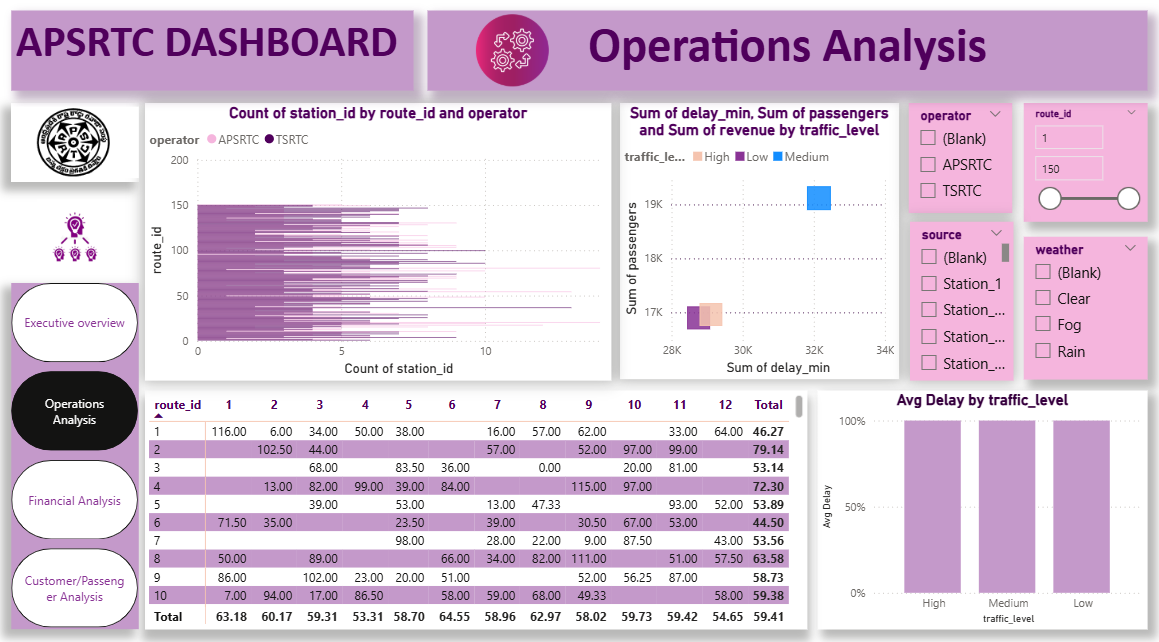

This screenshot's page, from the dashboard's own definition file:
{"tool":"powerbi","page":{"name":"Operations Analysis","canvas":[1280,720],"ordinal":1},"visuals":[{"type":"clusteredBarChart","fields":{"Category":["fact_trips.route_id"],"Y":["CountNonNull(fact_trips.station_id)"],"Series":["dim_buses.operator"]},"box":[164.6,120.7,511.8,304.6],"z":0,"group":"g4"},{"type":"hundredPercentStackedColumnChart","fields":{"Category":["fact_trips.traffic_level"],"Y":["fact_trips.Avg Delay"]},"box":[902.9,436.4,362.3,262.1],"z":0,"group":"g13"},{"type":"textbox","box":[17.8,19.2,441.9,87.8],"z":1000,"group":"g3"},{"type":"textbox","box":[474.7,19.2,790.4,87.8],"z":2000,"group":"g2"},{"type":"scatterChart","fields":{"X":["Sum(fact_trips.delay_min)"],"Y":["Sum(fact_trips.passengers)"],"Size":["Sum(fact_trips.revenue)"],"Series":["fact_trips.traffic_level"]},"box":[686,120.7,306,303.3],"z":2000,"group":"g8"},{"type":"pageNavigator","box":[17.8,318.3,140,380.1],"z":3000,"group":"g6"},{"type":"pivotTable","fields":{"Rows":["dim_routes.route_id"],"Columns":["dim_dates.month"],"Values":["fact_trips.Avg Delay"]},"box":[164.6,436.4,727.3,262.1],"z":3000,"group":"g13"},{"type":"image","box":[17.8,120.7,140,86.4],"z":4000,"group":"g5"},{"type":"slicer","fields":{"Values":["fact_trips.weather"]},"box":[1129.3,267.6,135.8,156.4],"z":4000,"group":"g12"},{"type":"image","box":[496.7,23.3,142.7,79.6],"z":5000,"group":"g2"},{"type":"image","box":[17.8,226.4,140,82.3],"z":6000,"group":"g5"},{"type":"group","id":"g1","title":"Group 1","box":[164.6,120.7,1100.5,577.7],"z":7000,"group":"g7"},{"type":"slicer","fields":{"Values":["dim_buses.operator"]},"box":[1003,120.7,113.9,120.8],"z":7000,"group":"g9"},{"type":"group","id":"g2","title":"Group 8","box":[474.7,19.2,790.4,87.8],"z":7001,"group":"g3"},{"type":"group","id":"g3","title":"Group 9","box":[17.8,19.2,1247.3,87.8],"z":7002,"group":"g4"},{"type":"group","id":"g4","title":"Group 10","box":[17.8,19.2,1247.3,406.2],"z":7003,"group":"g7"},{"type":"group","id":"g5","title":"Group 11","box":[17.8,120.7,140,188],"z":7004,"group":"g6"},{"type":"group","id":"g6","title":"Group 12","box":[17.8,120.7,140,577.7],"z":7005,"group":"g7"},{"type":"group","id":"g7","title":"Group 13","box":[17.8,19.2,1247.3,679.2],"z":7006},{"type":"slicer","fields":{"Values":["dim_routes.source"]},"box":[1004.4,251.1,113.9,174.3],"z":8000,"group":"g11"},{"type":"slicer","fields":{"Values":["dim_routes.route_id"]},"box":[1129.3,120.7,135.8,130.4],"z":9000,"group":"g10"},{"type":"group","id":"g8","title":"Group 7","box":[164.6,120.7,1100.5,577.7],"z":11004,"group":"g1"},{"type":"group","id":"g9","title":"Group 6","box":[164.6,120.7,1100.5,577.7],"z":11004,"group":"g8"},{"type":"group","id":"g10","title":"Group 5","box":[164.6,120.7,1100.5,577.7],"z":11004,"group":"g9"},{"type":"group","id":"g11","title":"Group 4","box":[164.6,251.1,1100.5,447.3],"z":11004,"group":"g10"},{"type":"group","id":"g12","title":"Group 3","box":[164.6,267.6,1100.5,430.9],"z":11004,"group":"g11"},{"type":"group","id":"g13","title":"Group 2","box":[164.6,436.4,1100.5,262.1],"z":11004,"group":"g12"}]}

Visuals, with their boxes in screenshot pixels (x1, y1, x2, y2), scaled from the page's 1280x720 canvas onto the 1159x642 screenshot:
clusteredBarChart - fact_trips.route_id x CountNonNull(fact_trips.station_id): x1=149 y1=108 x2=612 y2=379
hundredPercentStackedColumnChart - fact_trips.traffic_level x fact_trips.Avg Delay: x1=818 y1=389 x2=1146 y2=623
textbox: x1=16 y1=17 x2=416 y2=95
textbox: x1=430 y1=17 x2=1146 y2=95
scatterChart - Sum(fact_trips.delay_min) x Sum(fact_trips.passengers): x1=621 y1=108 x2=898 y2=378
pageNavigator: x1=16 y1=284 x2=143 y2=623
pivotTable - dim_routes.route_id x dim_dates.month: x1=149 y1=389 x2=808 y2=623
image: x1=16 y1=108 x2=143 y2=185
slicer - fact_trips.weather: x1=1023 y1=239 x2=1146 y2=378
image: x1=450 y1=21 x2=579 y2=92
image: x1=16 y1=202 x2=143 y2=275
"Group 1" group: x1=149 y1=108 x2=1146 y2=623
slicer - dim_buses.operator: x1=908 y1=108 x2=1011 y2=215
"Group 8" group: x1=430 y1=17 x2=1146 y2=95
"Group 9" group: x1=16 y1=17 x2=1146 y2=95
"Group 10" group: x1=16 y1=17 x2=1146 y2=379
"Group 11" group: x1=16 y1=108 x2=143 y2=275
"Group 12" group: x1=16 y1=108 x2=143 y2=623
"Group 13" group: x1=16 y1=17 x2=1146 y2=623
slicer - dim_routes.source: x1=909 y1=224 x2=1013 y2=379
slicer - dim_routes.route_id: x1=1023 y1=108 x2=1146 y2=224
"Group 7" group: x1=149 y1=108 x2=1146 y2=623
"Group 6" group: x1=149 y1=108 x2=1146 y2=623
"Group 5" group: x1=149 y1=108 x2=1146 y2=623
"Group 4" group: x1=149 y1=224 x2=1146 y2=623
"Group 3" group: x1=149 y1=239 x2=1146 y2=623
"Group 2" group: x1=149 y1=389 x2=1146 y2=623
